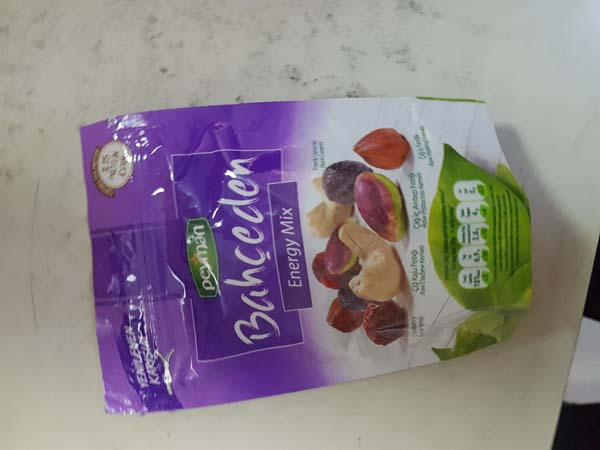bahcedenenergymix: (76, 93, 539, 419)
